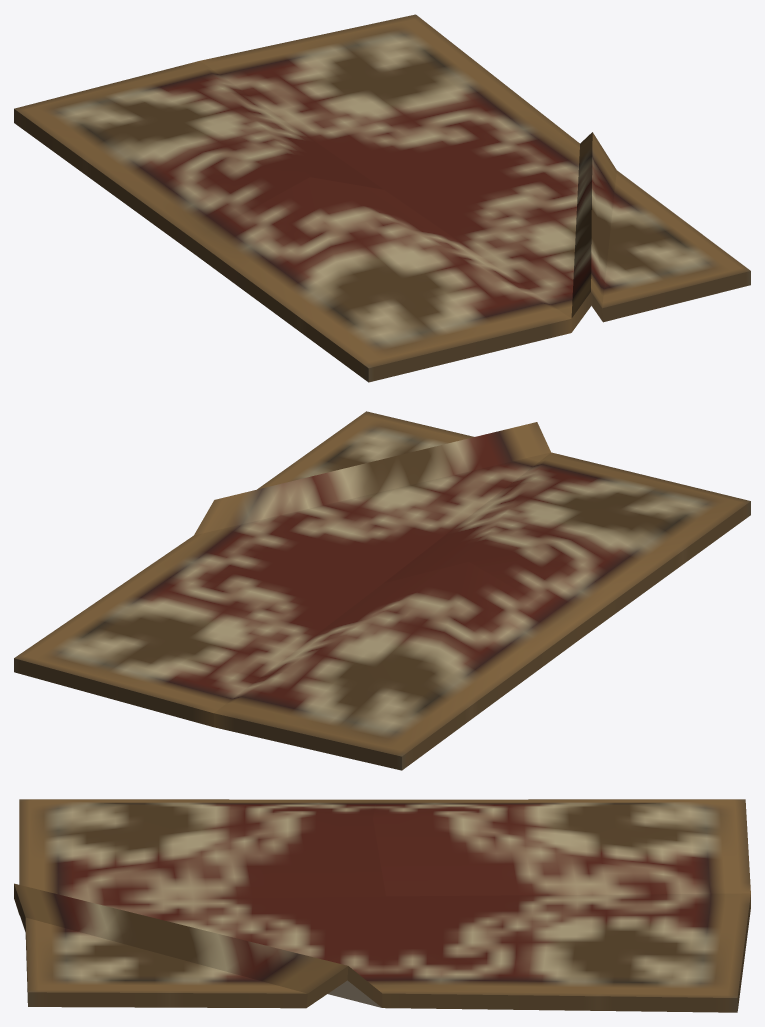
The model's file is SM_Prop_Rug_26.fbx.
The picture shows the model from 3 angles, top to bottom: view 1: azimuth 30°, elevation 25°; view 2: azimuth 150°, elevation 25°; view 3: azimuth 270°, elevation 25°; orthographic projection. The views are drawn at different scales.
Parts seen in each view (by area): view 1: SM_Prop_Rug_26; view 2: SM_Prop_Rug_26; view 3: SM_Prop_Rug_26.
Boxes of the visible parts, x1,y1,x2,y2 form: SM_Prop_Rug_26: [14, 14, 750, 382]; SM_Prop_Rug_26: [14, 411, 750, 770]; SM_Prop_Rug_26: [14, 799, 750, 1012].
Size of the model in its own units: 97.69 by 11.99 by 153.
